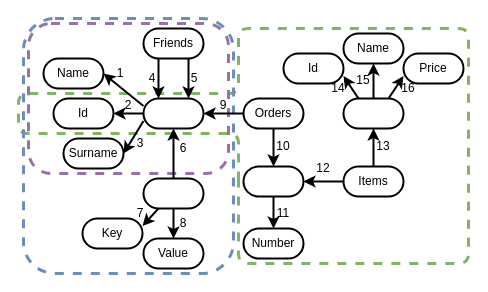
Image size: 488x292. Some labels were removed from this diagram. Here are the shapes that lost their labels. From the top down, the centre of each, then its label:
the point at 173,113: Customer
the point at 373,113: Product
the point at 173,193: Contact
the point at 273,181: Order
